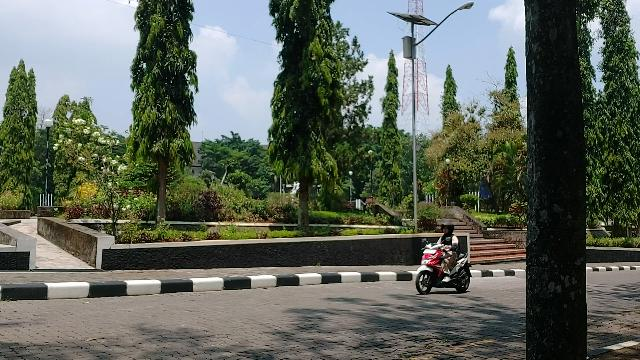helm: (442, 222, 455, 235)
motor: (417, 244, 472, 295)
